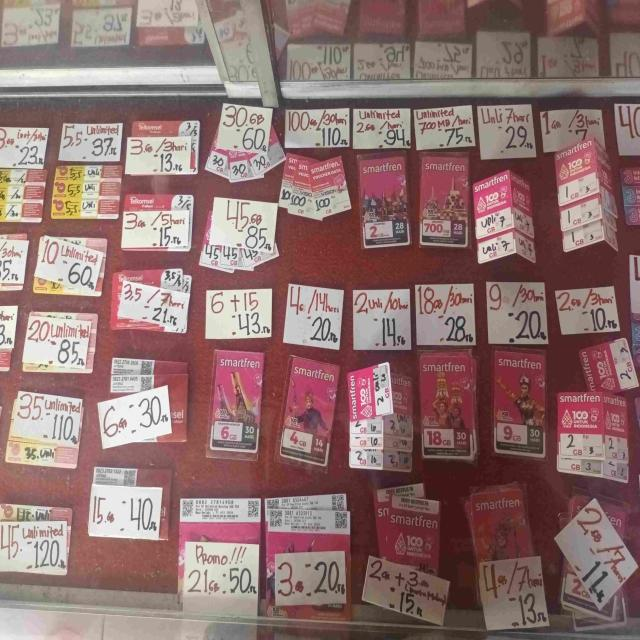Indosat: (4, 387, 85, 477), (0, 499, 73, 577), (24, 311, 98, 376), (37, 232, 106, 295), (55, 164, 120, 218), (0, 165, 45, 220), (60, 123, 121, 160), (3, 125, 46, 164), (0, 233, 26, 289), (622, 156, 640, 230), (1, 301, 14, 372)
Telkomsel: (92, 465, 172, 543), (110, 268, 195, 338), (128, 114, 204, 182), (123, 193, 195, 255)
smartfren: (462, 483, 547, 629), (363, 486, 452, 621), (559, 492, 636, 630), (177, 491, 260, 619), (265, 491, 349, 612), (104, 353, 188, 452), (347, 359, 415, 476), (551, 142, 620, 250), (557, 386, 632, 483), (274, 354, 334, 466), (418, 352, 478, 460), (200, 195, 280, 273), (209, 102, 284, 185), (473, 171, 538, 266), (493, 349, 549, 458), (210, 345, 264, 458), (206, 194, 278, 278), (284, 154, 350, 229), (359, 155, 409, 248), (419, 153, 468, 246), (485, 278, 546, 346), (351, 285, 412, 350), (286, 278, 342, 348), (416, 281, 476, 345), (207, 287, 272, 341), (557, 280, 620, 334), (478, 106, 536, 162), (576, 338, 638, 390), (287, 105, 349, 148), (414, 106, 474, 148), (542, 112, 606, 146), (355, 109, 408, 149)
